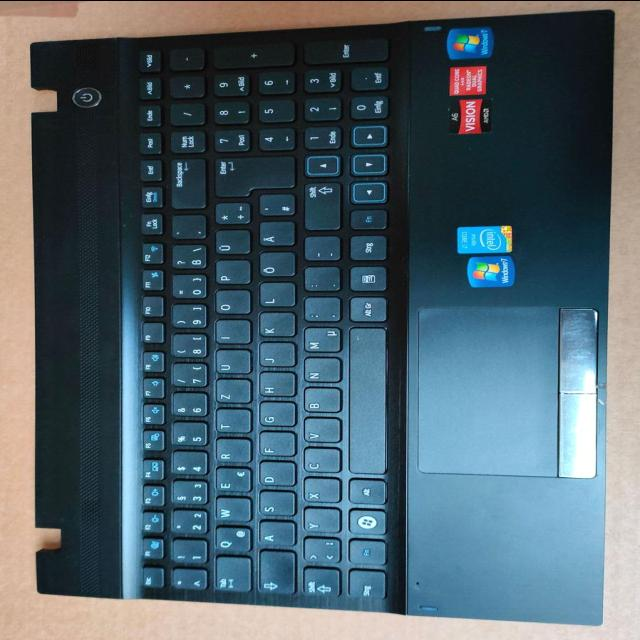0: (168, 275, 205, 301)
1: (168, 541, 205, 566)
2: (168, 510, 205, 536)
3: (168, 481, 206, 507)
4: (168, 452, 205, 476)
5: (168, 423, 205, 448)
6: (168, 394, 205, 418)
7: (168, 364, 206, 388)
8: (168, 335, 205, 360)
9: (168, 305, 205, 331)
a: (255, 522, 292, 547)
accent: (168, 217, 204, 241)
ae: (256, 222, 293, 248)
alt-left: (346, 479, 384, 505)
altgr-right: (346, 298, 384, 324)
b: (301, 389, 339, 415)
c: (301, 448, 339, 474)
caret: (168, 570, 204, 592)
comma: (301, 298, 339, 324)
d: (256, 462, 294, 487)
del: (167, 159, 203, 210)
e: (211, 468, 249, 494)
enter: (210, 157, 294, 199)
f: (256, 432, 294, 458)
g: (256, 403, 294, 428)
h: (256, 373, 294, 399)
hash: (255, 196, 293, 218)
i: (212, 320, 249, 346)
j: (256, 343, 294, 369)
k: (256, 313, 294, 339)
keyboard: (112, 31, 406, 611)
l: (256, 283, 294, 309)
less: (299, 538, 339, 566)
m: (300, 328, 339, 354)
minus: (300, 237, 338, 263)
n: (300, 358, 339, 384)
o: (212, 291, 249, 317)
oe: (256, 252, 294, 278)
p: (212, 261, 249, 287)
plus: (211, 204, 249, 227)
point: (301, 268, 339, 294)
q: (211, 527, 249, 555)
r: (212, 439, 250, 464)
s: (256, 492, 294, 517)
shift-left: (299, 570, 338, 600)
shift-lock: (255, 552, 293, 596)
shift-right: (300, 183, 339, 232)
space: (345, 328, 385, 475)
ss: (168, 245, 205, 271)
strg-left: (344, 571, 384, 601)
strg-right: (346, 236, 385, 262)
t: (212, 409, 250, 434)
tab: (211, 557, 249, 594)
u: (212, 350, 250, 375)
ue: (212, 231, 249, 257)
v: (301, 418, 339, 444)
w: (211, 498, 249, 524)
x: (301, 478, 339, 504)
y: (301, 508, 339, 534)
z: (212, 380, 250, 404)
